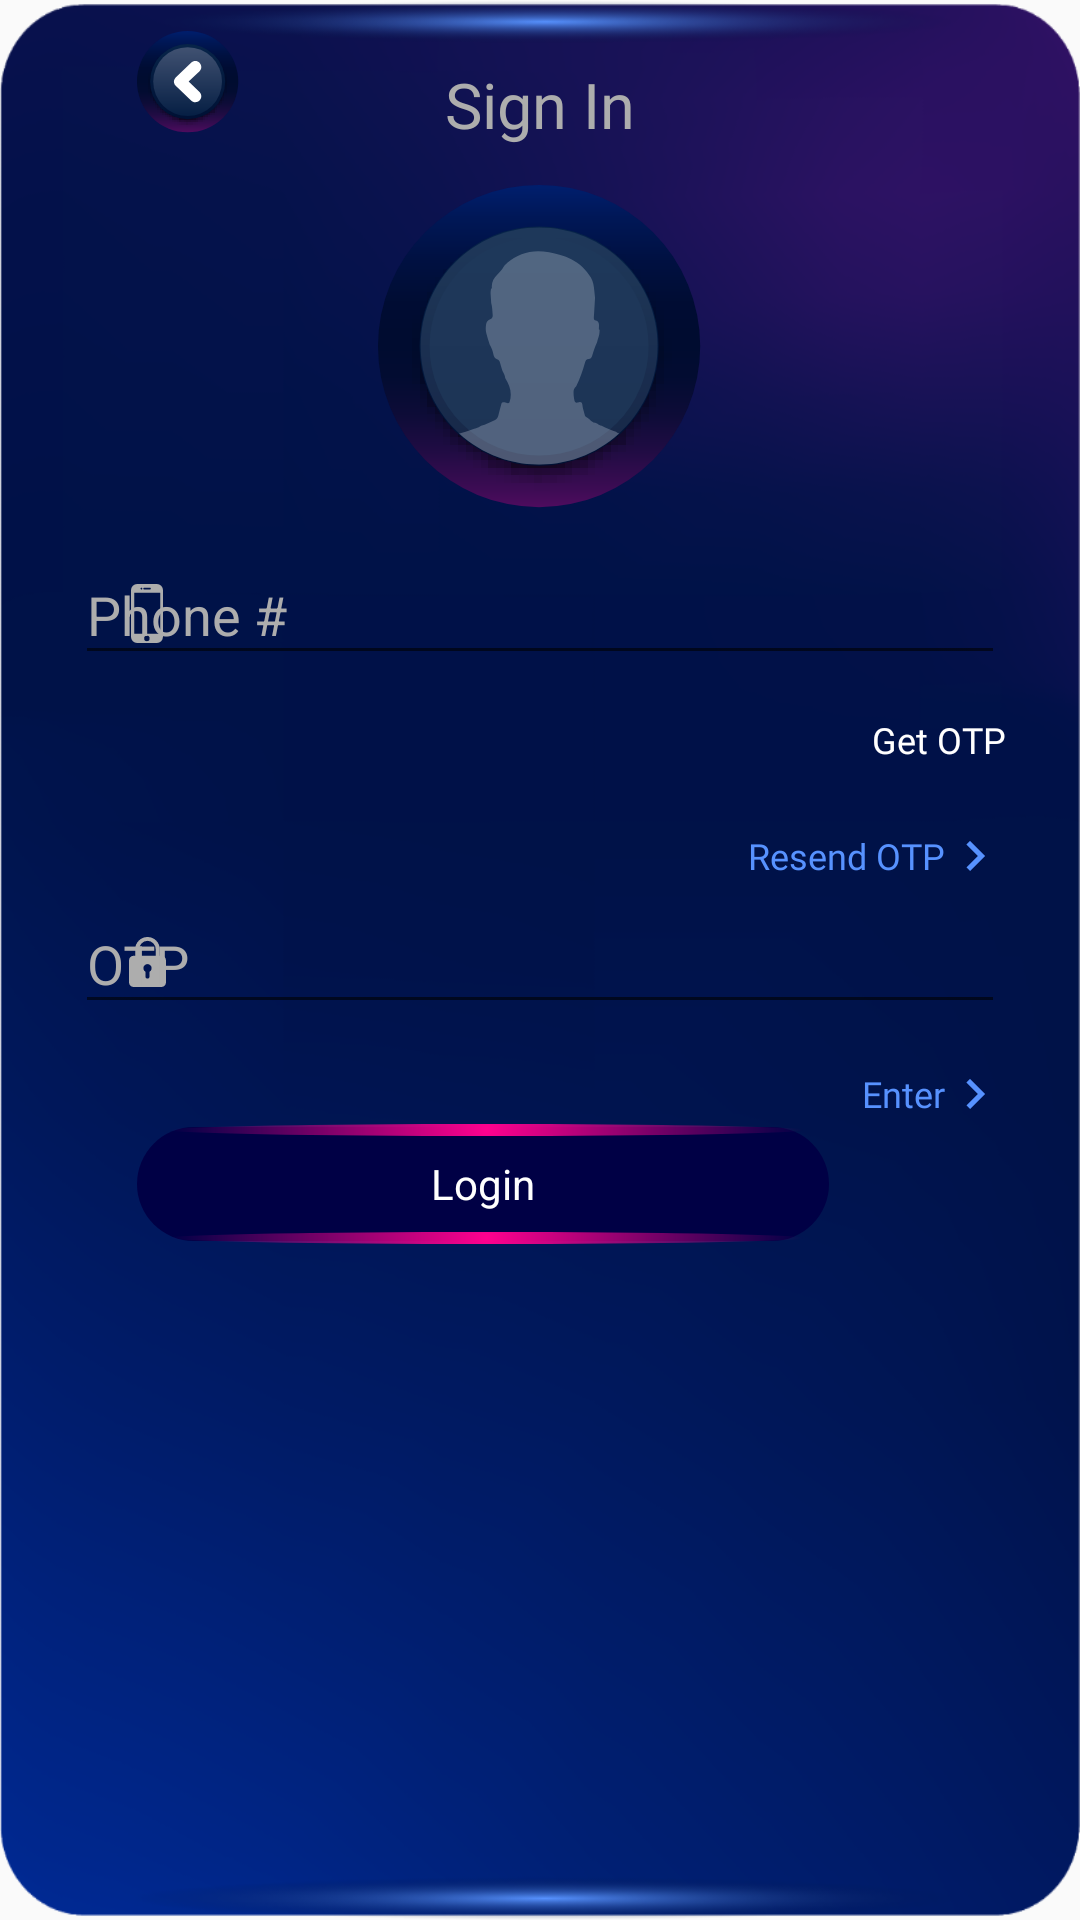

Screen size 1080×1920. Icon name, then its center in pixels as [x,y]:
back: [187,82]
profile: [539,346]
